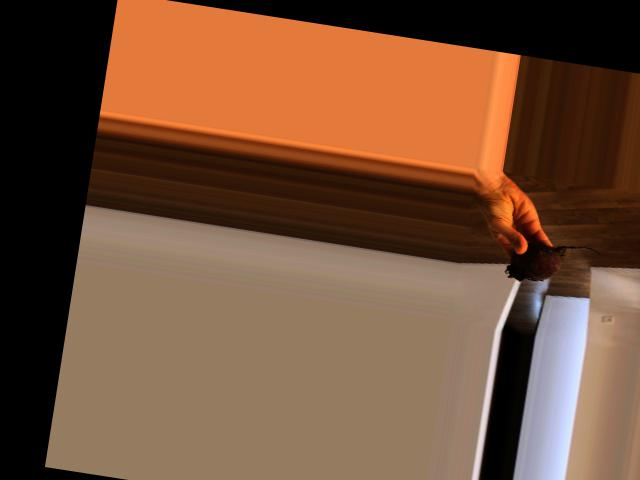beet: (505, 235, 603, 292)
